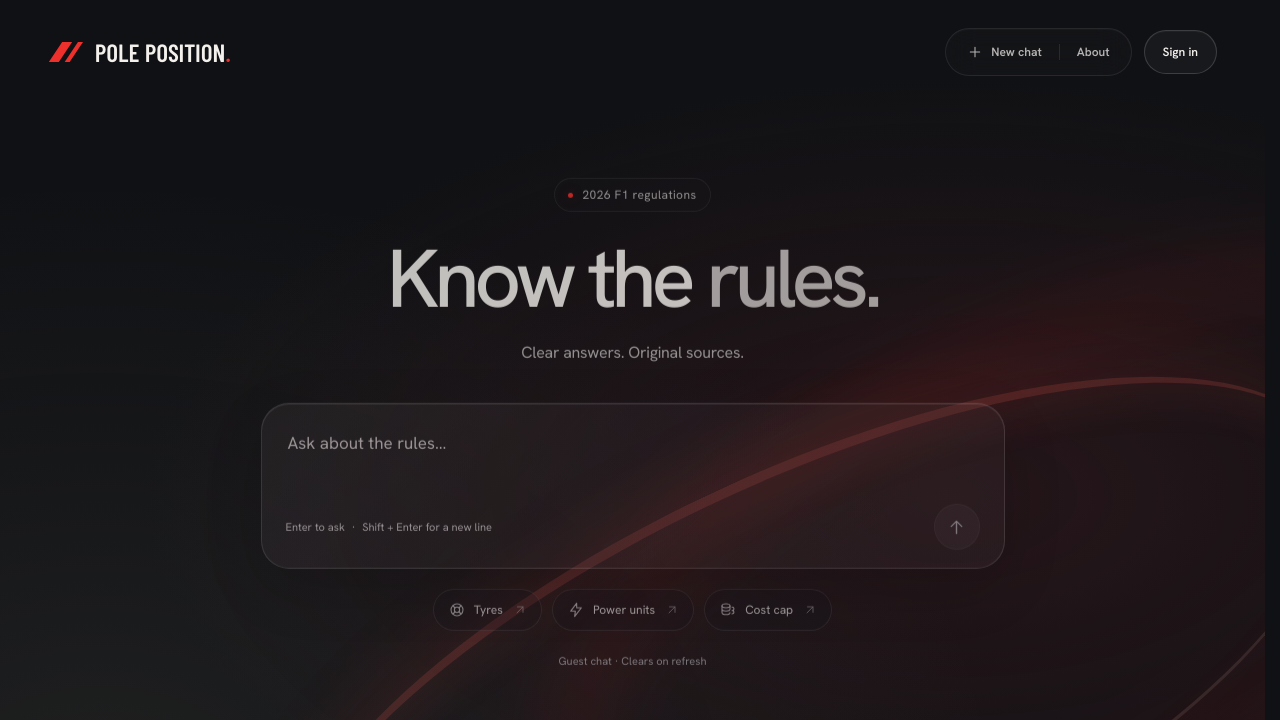
it: welcome screen › Power units populates the composer without submitting
Click the button "Power units": (623, 608) [552,587,694,629]
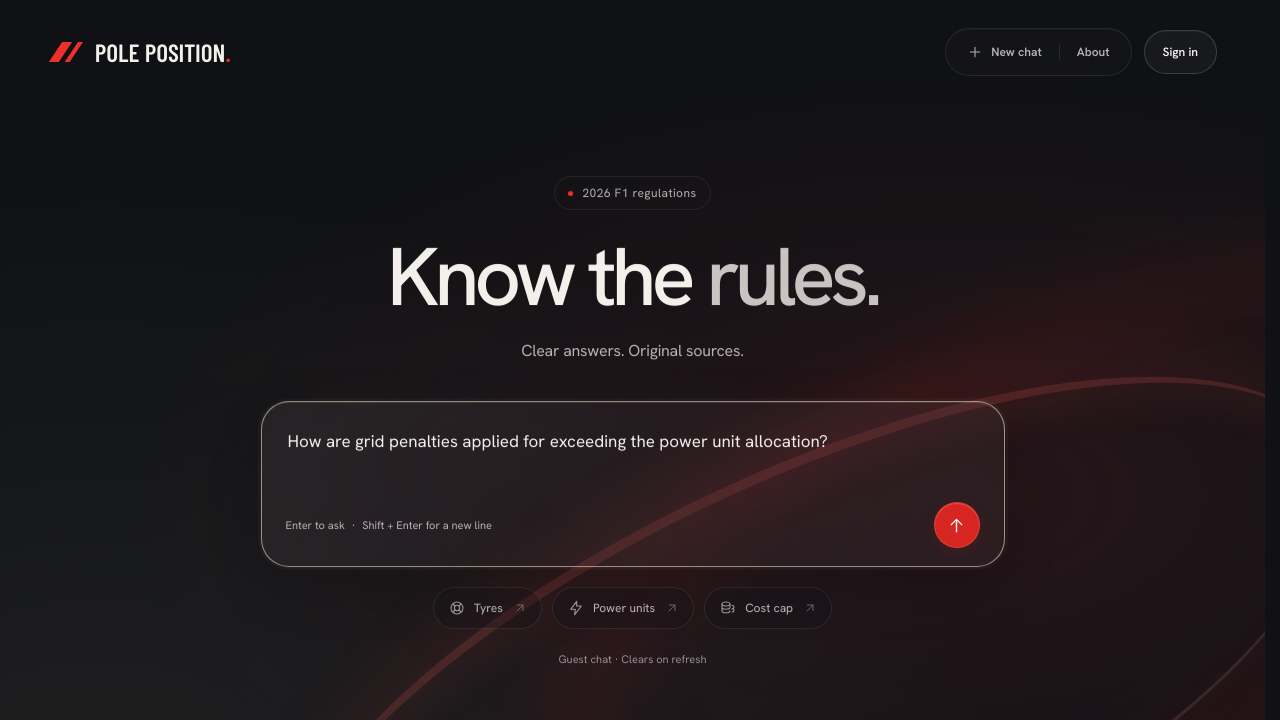
Expected: the text box holds "How are grid penalties applied for exceeding the power unit allocation?", [286,424,980,490]
